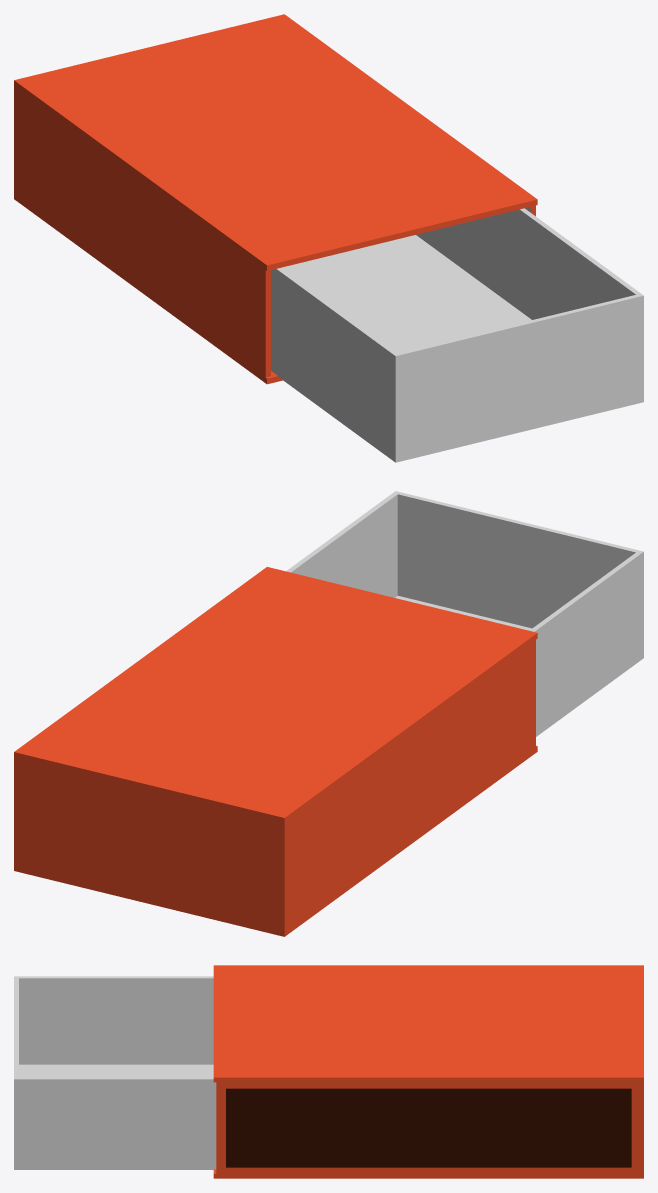
Rendered from matchBox.fbx.
3 views of the same model, one above another, from view 1: azimuth 30°, elevation 25°; view 2: azimuth 150°, elevation 25°; view 3: azimuth 270°, elevation 25° (orthographic). The views are drawn at different scales.
Parts seen in each view (by area): view 1: out_1; view 2: out_1; view 3: out_1.
Part boxes in pixels (x1=…): out_1: x1=14, y1=14, x2=643, y2=462; out_1: x1=14, y1=491, x2=643, y2=936; out_1: x1=14, y1=965, x2=643, y2=1178.
Size of the model in its own units: 100 by 42 by 237.
